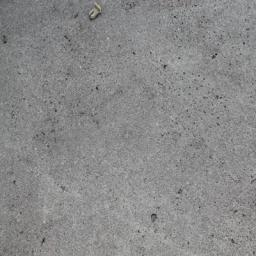FOD: (87, 2, 106, 23)
